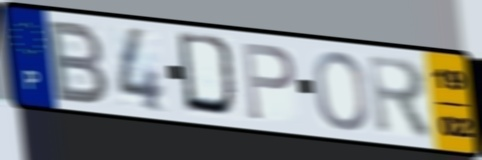4: (113, 24, 169, 116)
B: (46, 17, 112, 107)
D: (174, 29, 244, 123)
O: (311, 49, 371, 133)
P: (239, 39, 298, 123)
R: (365, 51, 436, 143)
